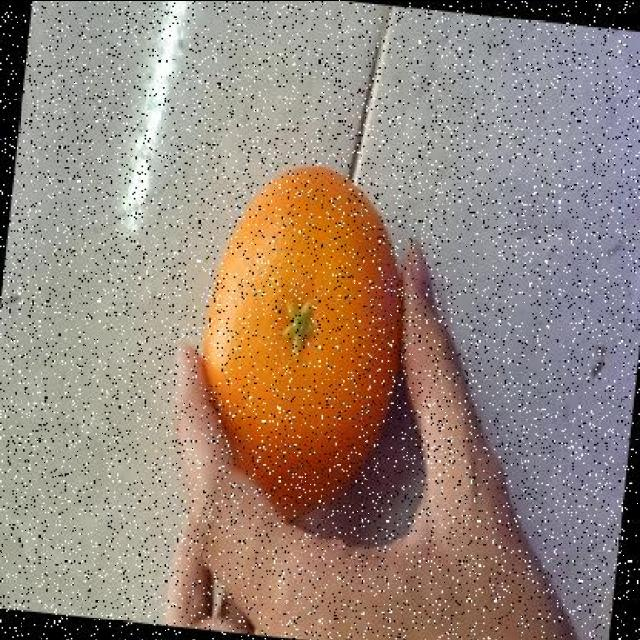Orange: (194, 164, 403, 522)
